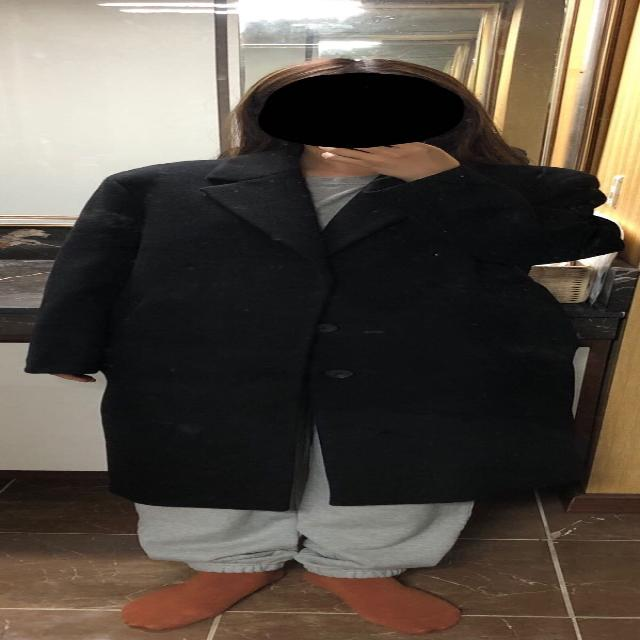coat: (21, 147, 630, 514)
trainingpants: (139, 415, 473, 576)
